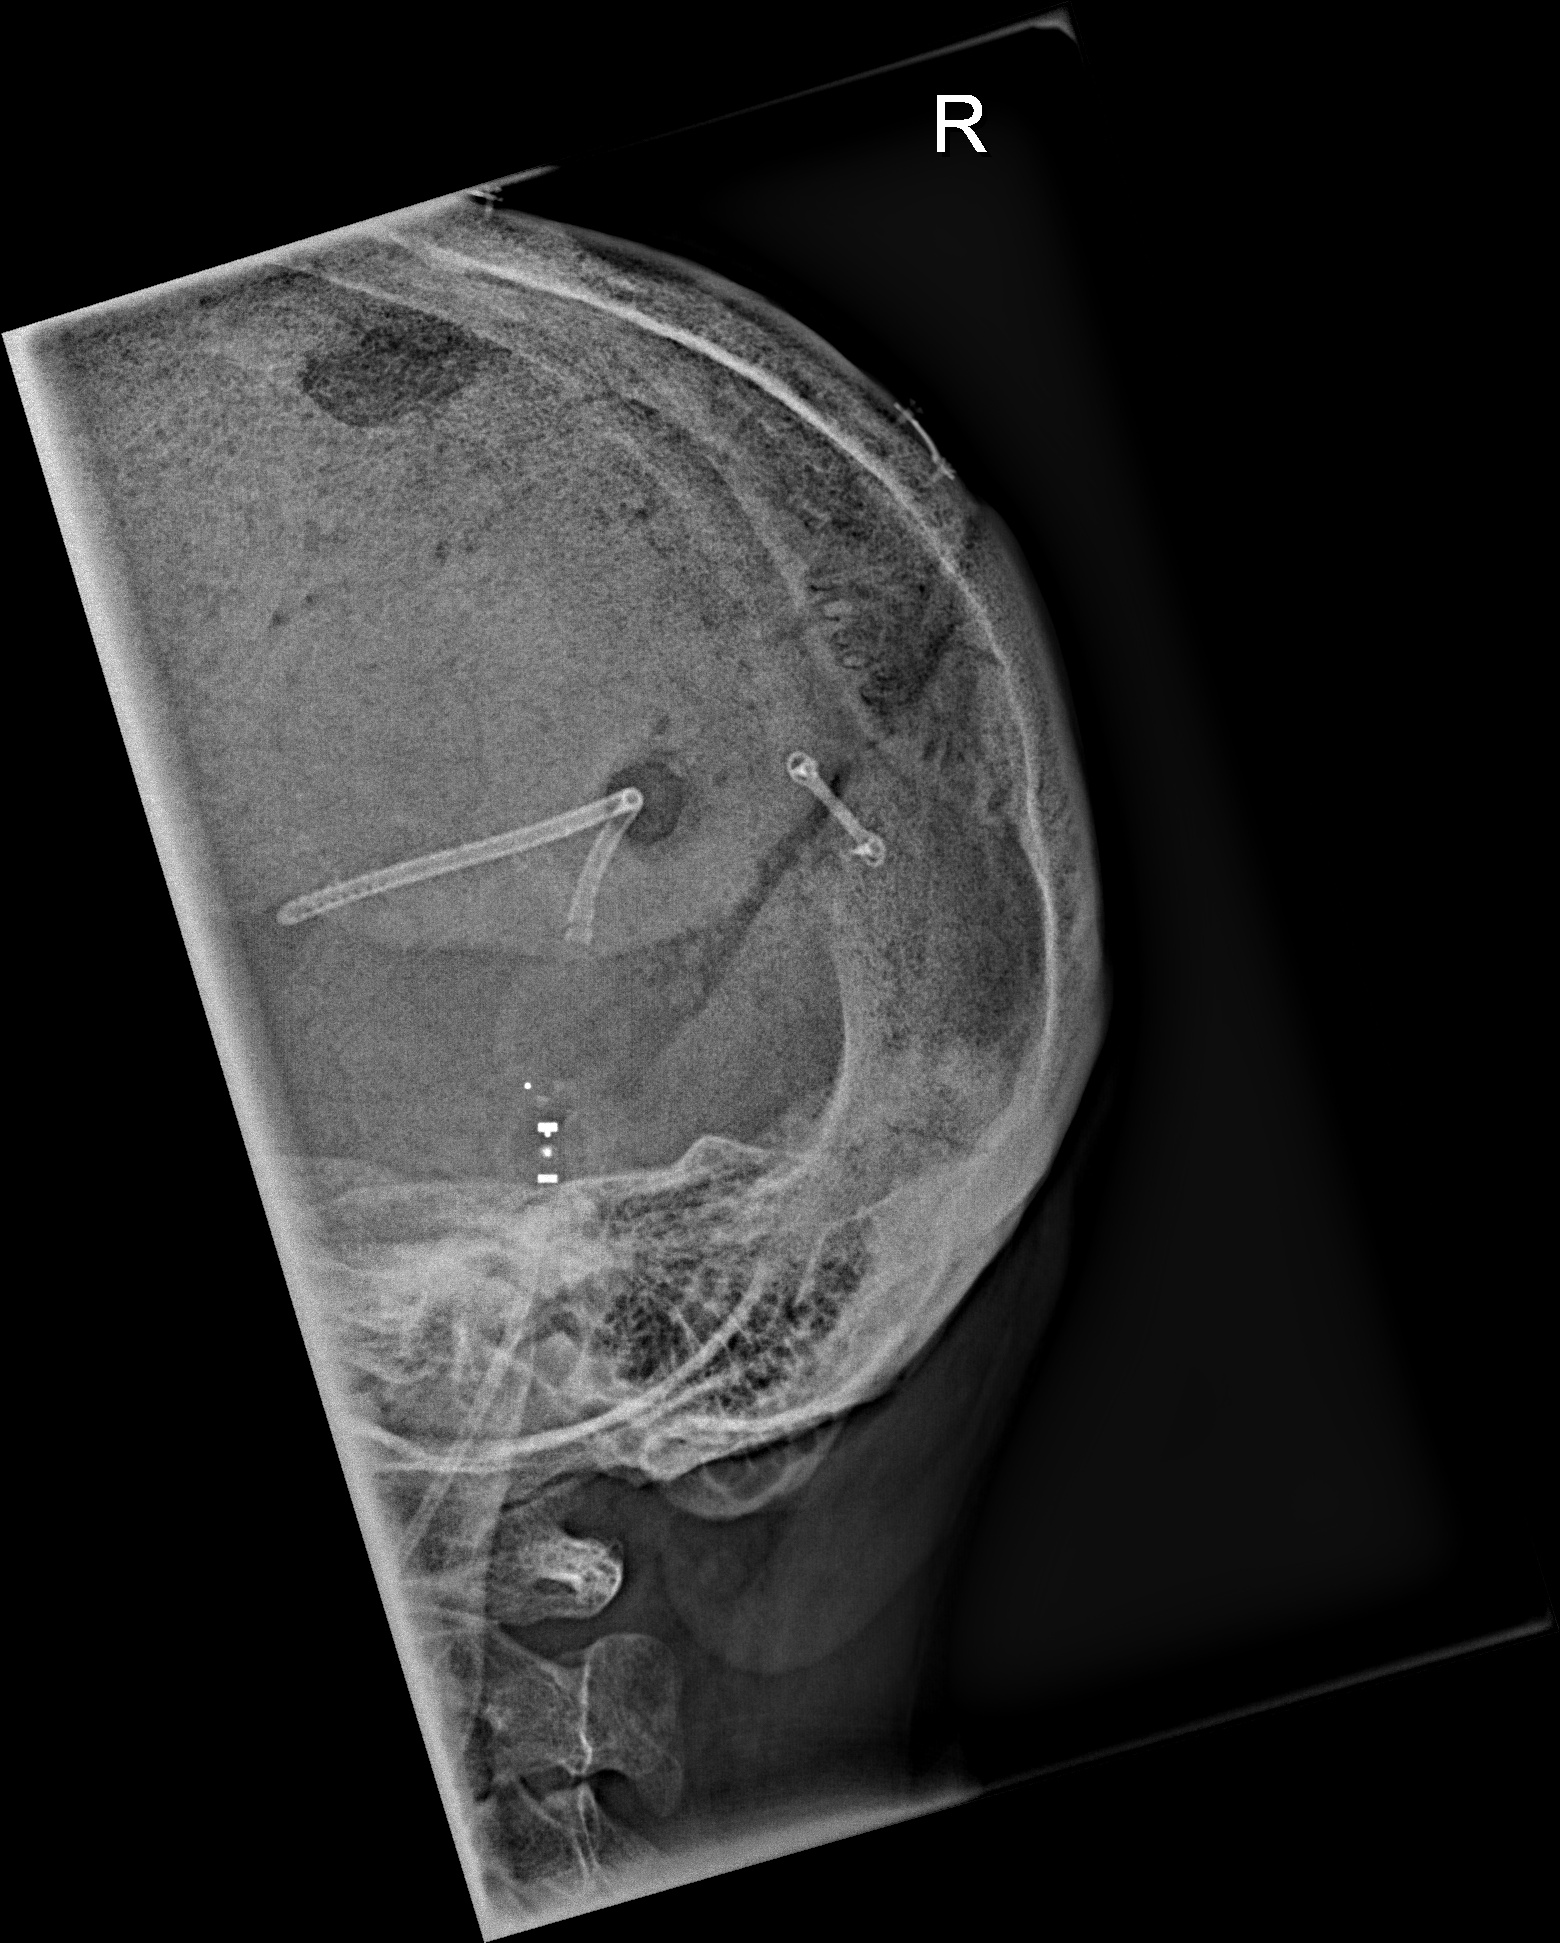Codman Certas: (490, 1057, 600, 1217)
